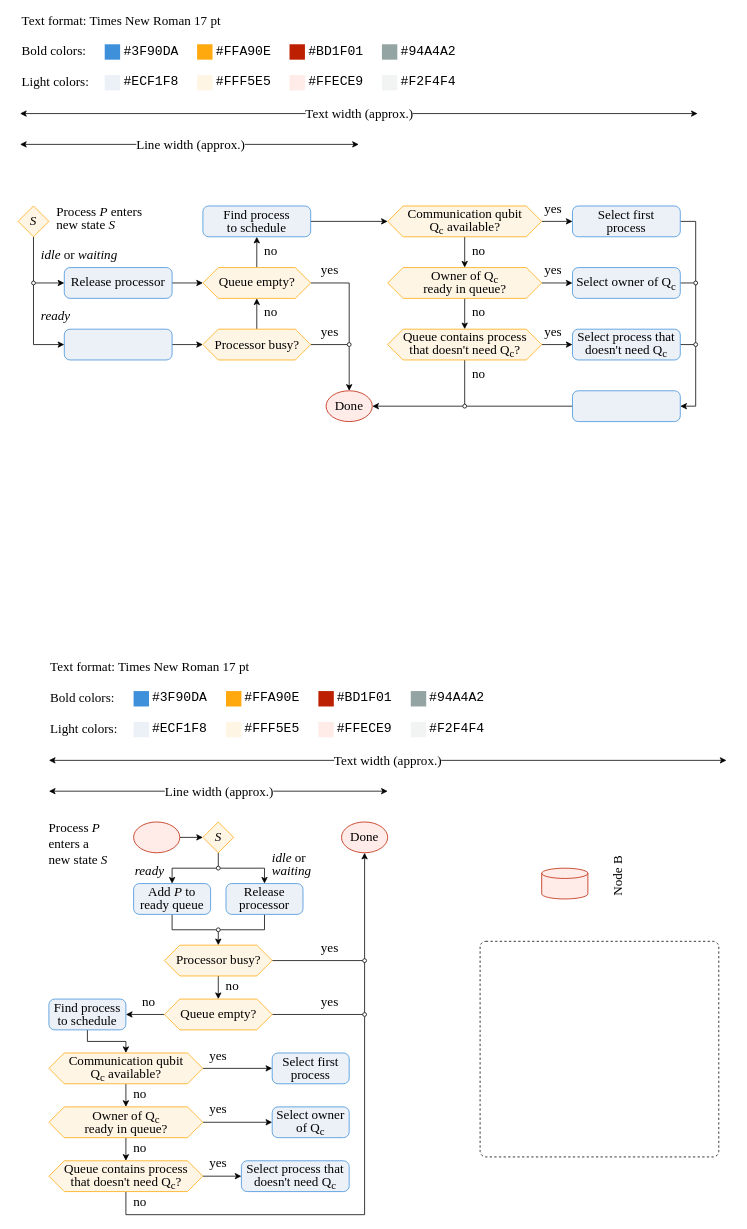
The diagram is 747 pixels wide and 1229 high, and some of its shapes have lost their labels. The shapes that lost their labels are listed below. From the top down, each one's centre as x and y in pixels, then its label:
[118,344]: Add process P to ready queue
[626,406]: Assign process to processor
[156,837]: Start
[564,883]: Queue
